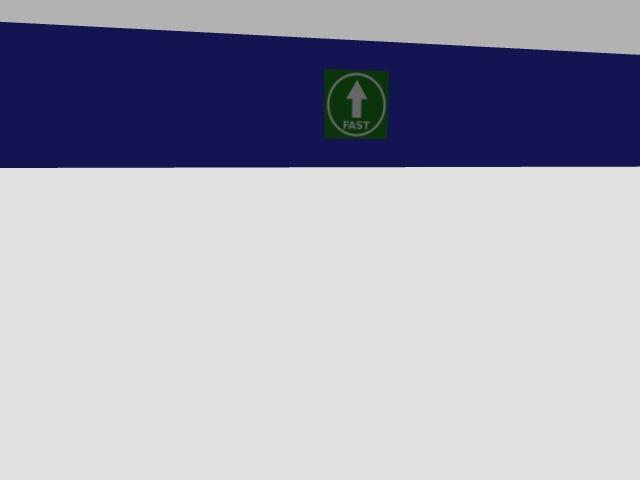fast: (324, 69, 388, 138)
